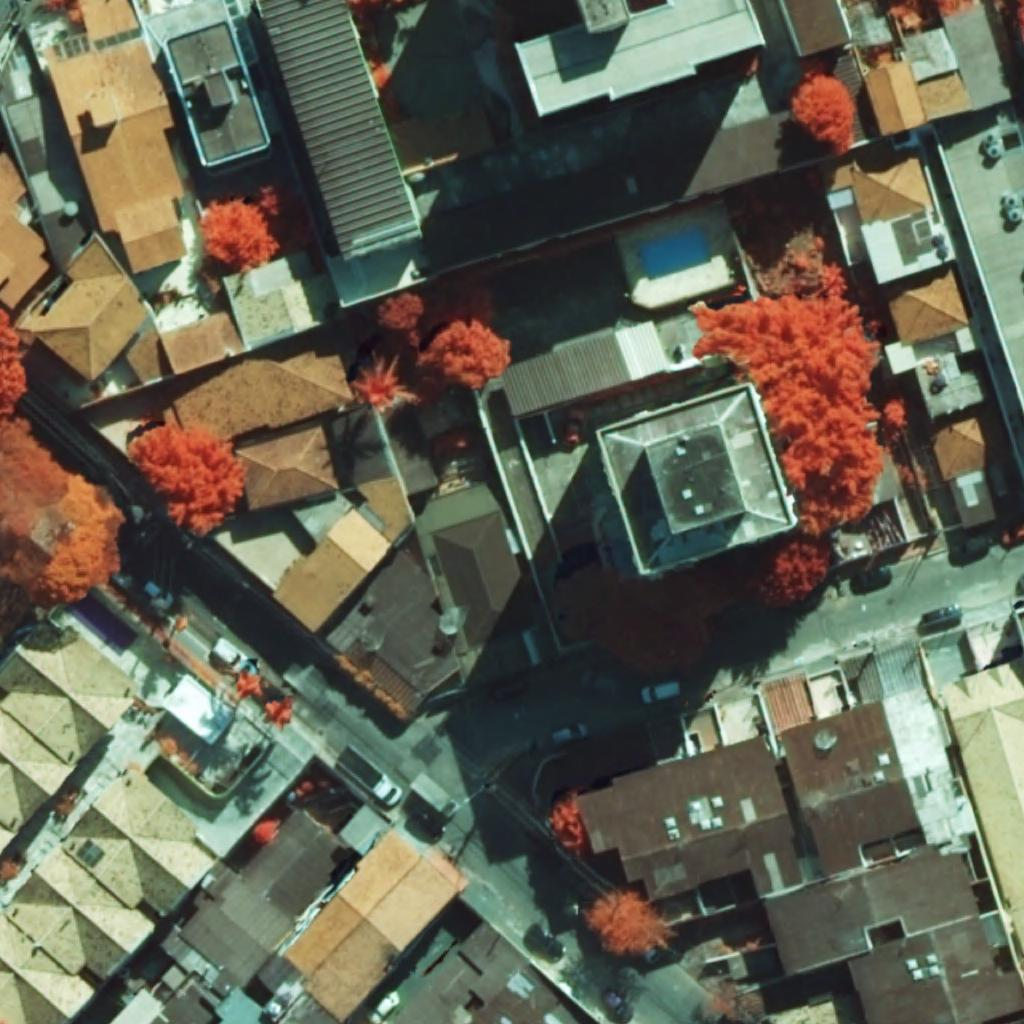pool: (638, 226, 709, 275)
